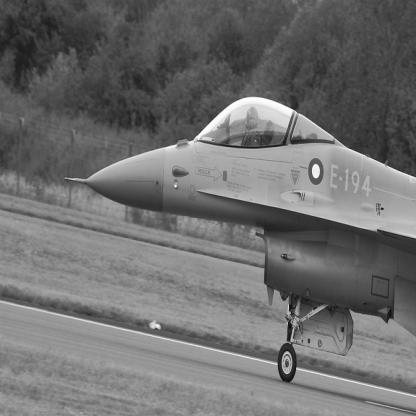F16: (64, 97, 416, 384)
